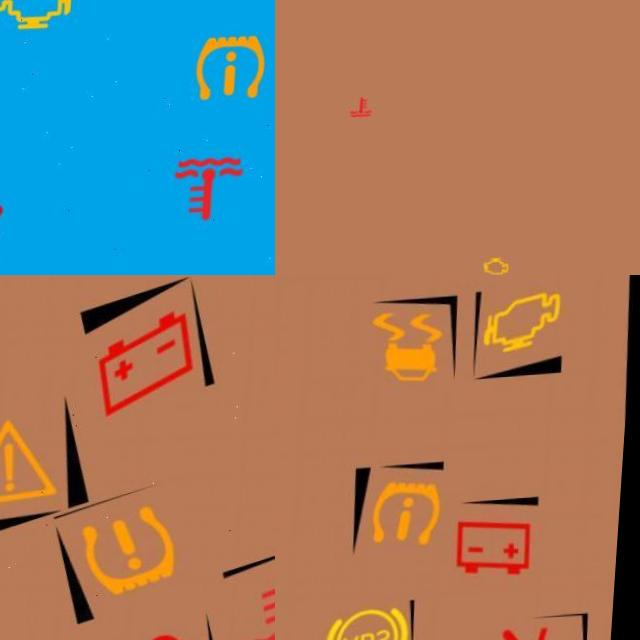High Engine Coolant Temperature: (350, 95, 380, 125)
